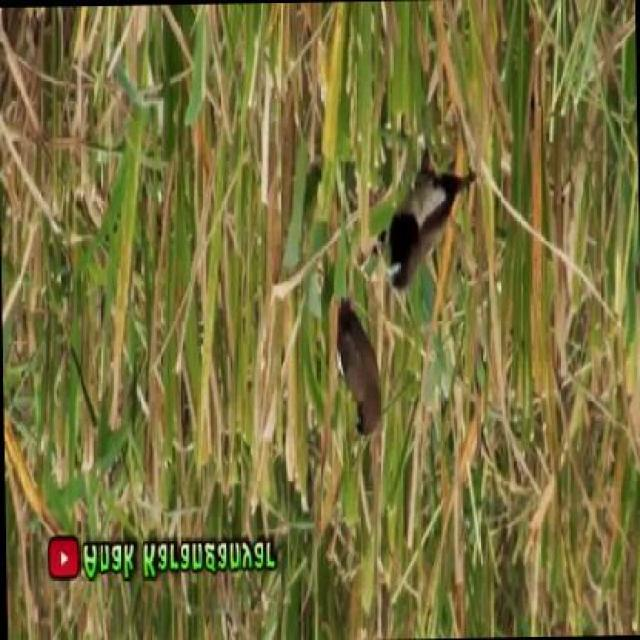Bird: (382, 142, 480, 295), (319, 302, 393, 449)
